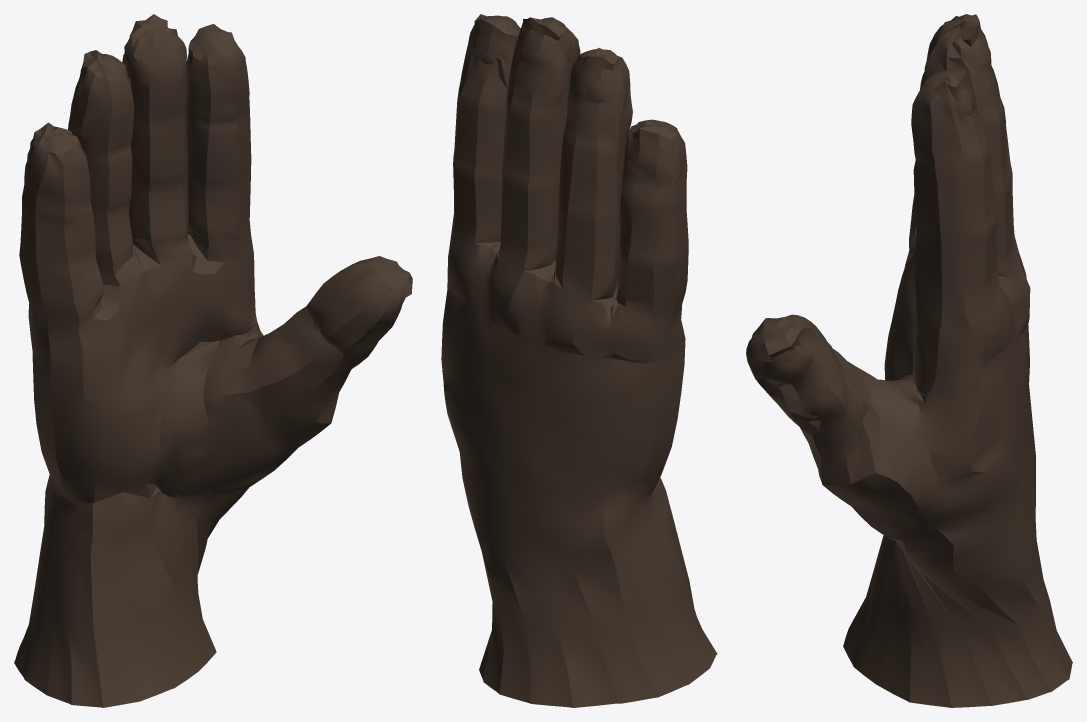
The model's file is glove-hand-v1.glb.
The picture shows the model from 3 angles, left to right: view 1: azimuth 30°, elevation 25°; view 2: azimuth 150°, elevation 25°; view 3: azimuth 270°, elevation 25°; orthographic projection. The views are drawn at different scales.
Parts seen in each view (by area): view 1: gauntlet_outer; view 2: gauntlet_outer; view 3: gauntlet_outer.
Boxes of the visible parts, bbox=[...] form: gauntlet_outer: bbox=[14, 14, 412, 707]; gauntlet_outer: bbox=[441, 14, 717, 707]; gauntlet_outer: bbox=[746, 14, 1072, 707].
Size of the model in its own units: 0.147 by 0.2892 by 0.1298.
